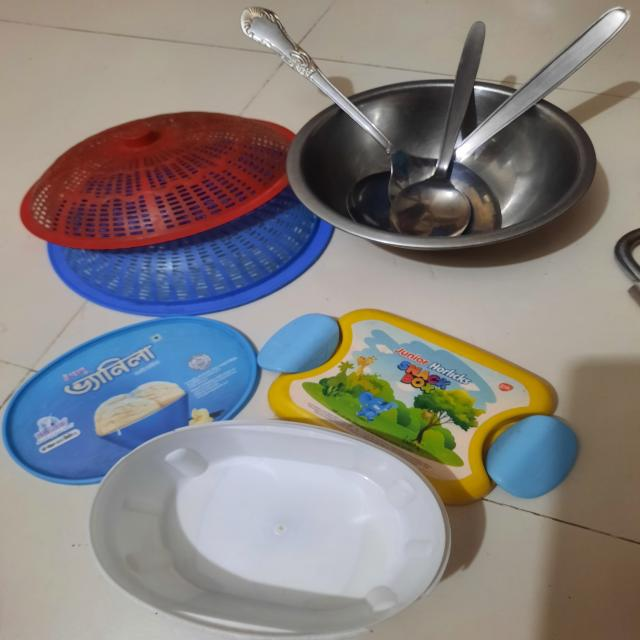Metal: (269, 21, 617, 260)
Plastics: (28, 307, 613, 604), (36, 96, 314, 309)
